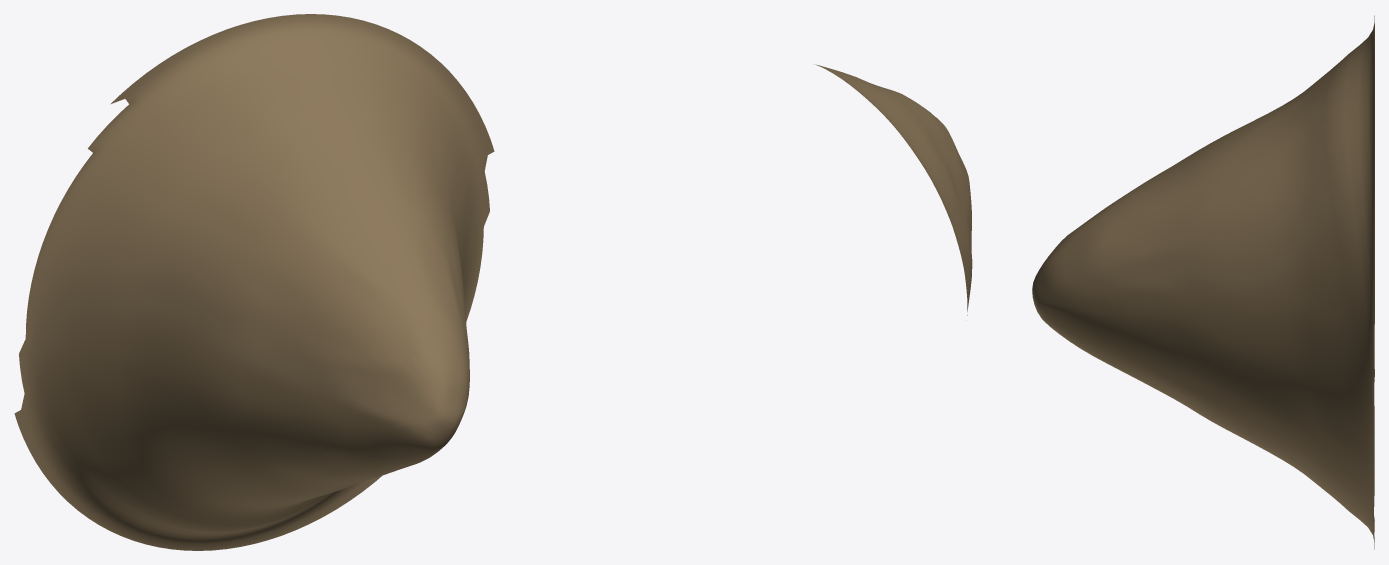
File: hill-v2.2.glb
The picture shows the model from 3 angles, left to right: view 1: azimuth 30°, elevation 25°; view 2: azimuth 150°, elevation 25°; view 3: azimuth 270°, elevation 25°; orthographic projection. The views are drawn at different scales.
Visible parts, largest first — view 1: hill_v2_2; view 2: hill_v2_2; view 3: hill_v2_2.
Part boxes in pixels (<box>): hill_v2_2: <box>14,14,494,550</box>; hill_v2_2: <box>815,64,972,315</box>; hill_v2_2: <box>1032,15,1374,549</box>.
Size of the model in its own units: 1.92 by 2 by 1.28.
